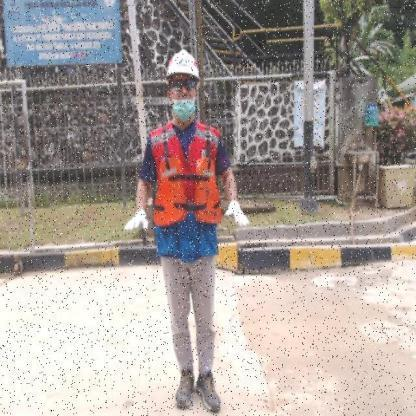boots: (194, 372, 223, 412), (174, 366, 196, 411)
gloves: (122, 207, 150, 238), (224, 200, 250, 231)
goggles: (171, 80, 196, 92)
helmet: (166, 50, 201, 80)
mask: (173, 98, 196, 124)
vest: (153, 156, 225, 230)
